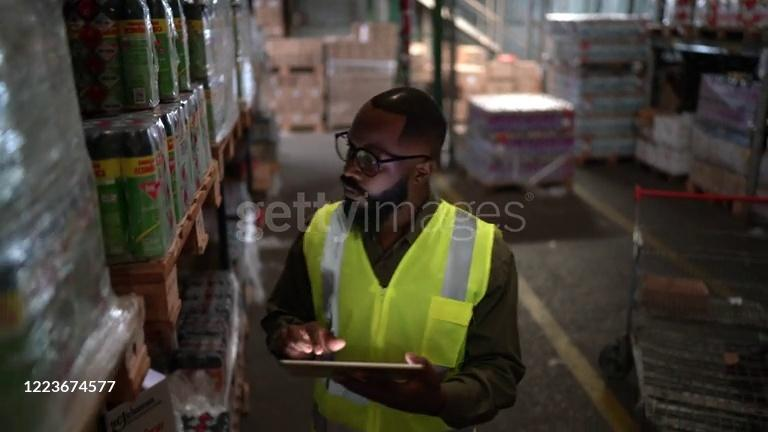person: (259, 85, 528, 432)
